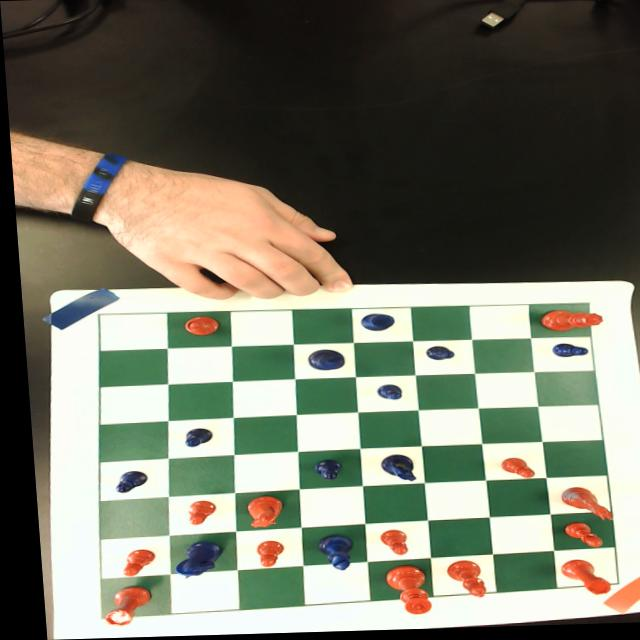B: (308, 535, 347, 572)
K: (301, 350, 341, 372)
N: (164, 540, 218, 579), (374, 456, 409, 483)
P: (105, 470, 142, 494), (305, 460, 336, 483), (175, 428, 208, 448), (545, 345, 584, 360), (419, 347, 450, 363), (370, 385, 397, 402)
R: (353, 315, 392, 334)
b: (435, 561, 479, 600), (180, 316, 215, 337)
k: (375, 567, 423, 617)
n: (551, 488, 606, 525), (232, 495, 278, 529)
p: (554, 524, 595, 551), (111, 548, 149, 577), (493, 458, 531, 481), (246, 541, 277, 569), (178, 500, 211, 526), (371, 531, 400, 557)
q: (534, 311, 600, 334)
r: (92, 585, 145, 627), (549, 561, 603, 599)
